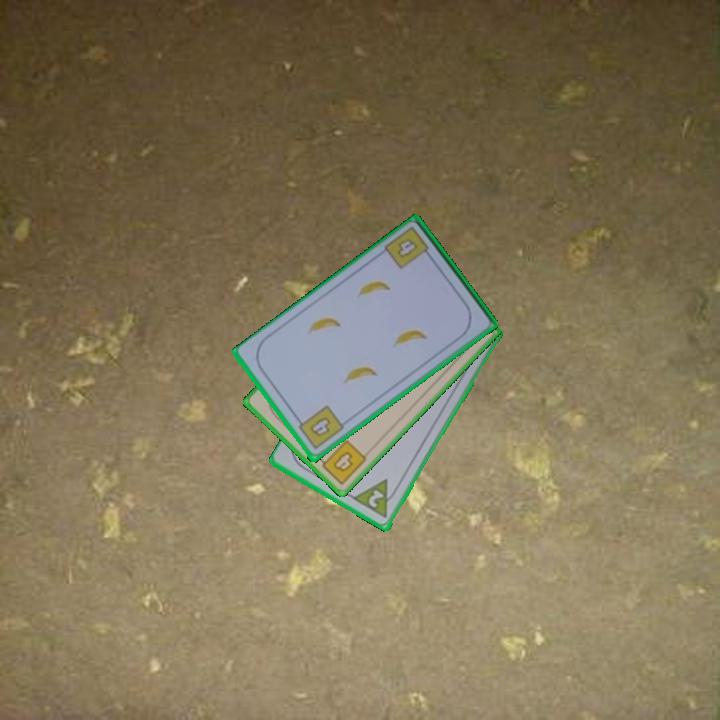2p: (350, 475, 402, 522)
4b: (314, 436, 370, 488), (293, 402, 346, 453), (393, 235, 421, 261)
